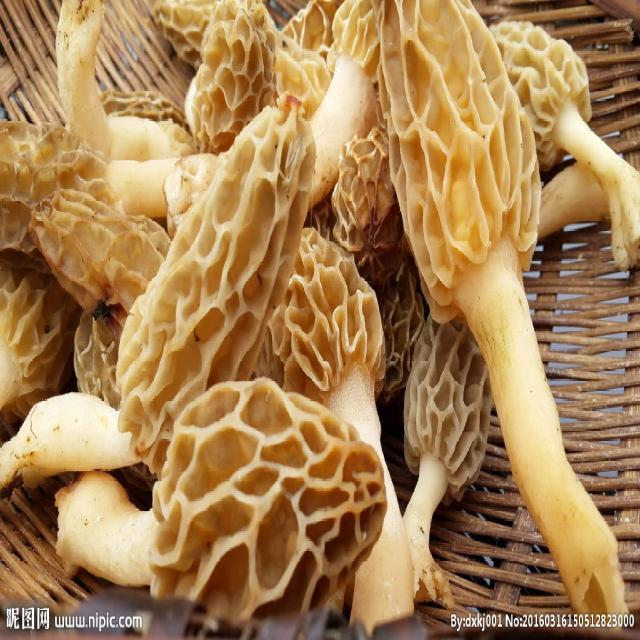Morchella esculenta: (378, 0, 630, 631), (55, 378, 388, 621), (117, 106, 315, 478), (488, 21, 640, 271), (401, 303, 494, 548)
